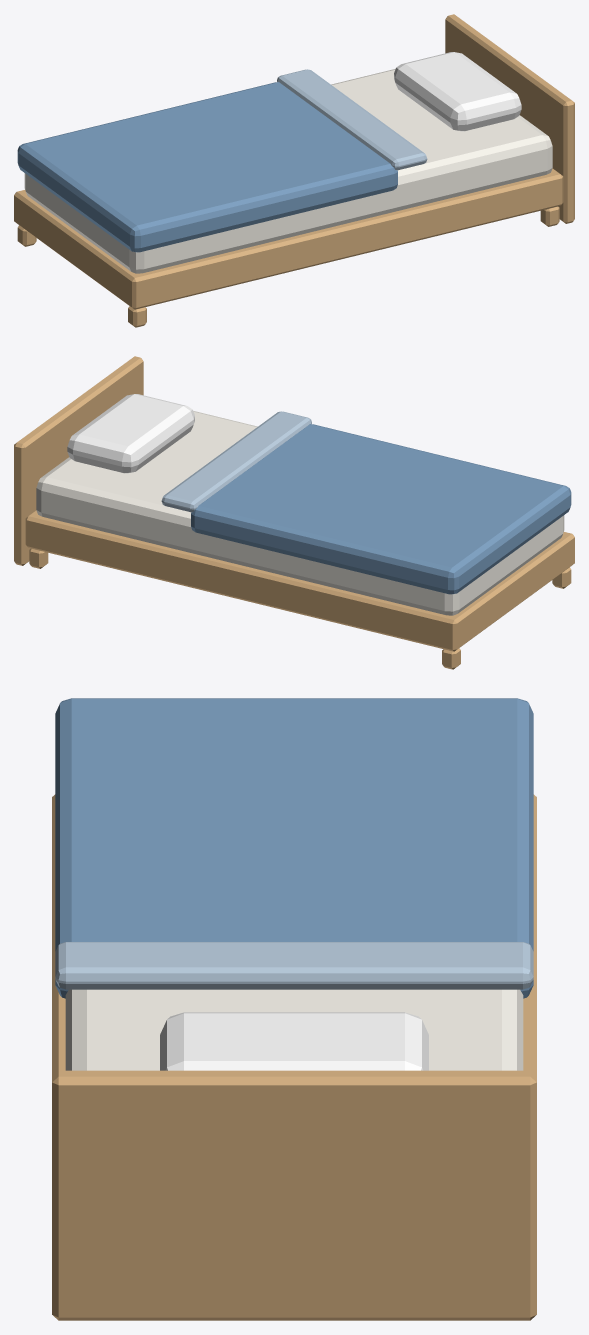
File: normal_bed.glb
3 views of the same model, one above another, from view 1: azimuth 30°, elevation 25°; view 2: azimuth 150°, elevation 25°; view 3: azimuth 270°, elevation 25° (orthographic). The views are drawn at different scales.
Parts seen in each view (by area): view 1: normal_bed_Body; view 2: normal_bed_Body; view 3: normal_bed_Body.
Part boxes in pixels (left/top/right/bottom): normal_bed_Body: left=14, top=14, right=574, bottom=327; normal_bed_Body: left=14, top=356, right=574, bottom=669; normal_bed_Body: left=52, top=698, right=536, bottom=1320.
Size of the model in its own units: 1.9 by 0.5 by 0.9.
